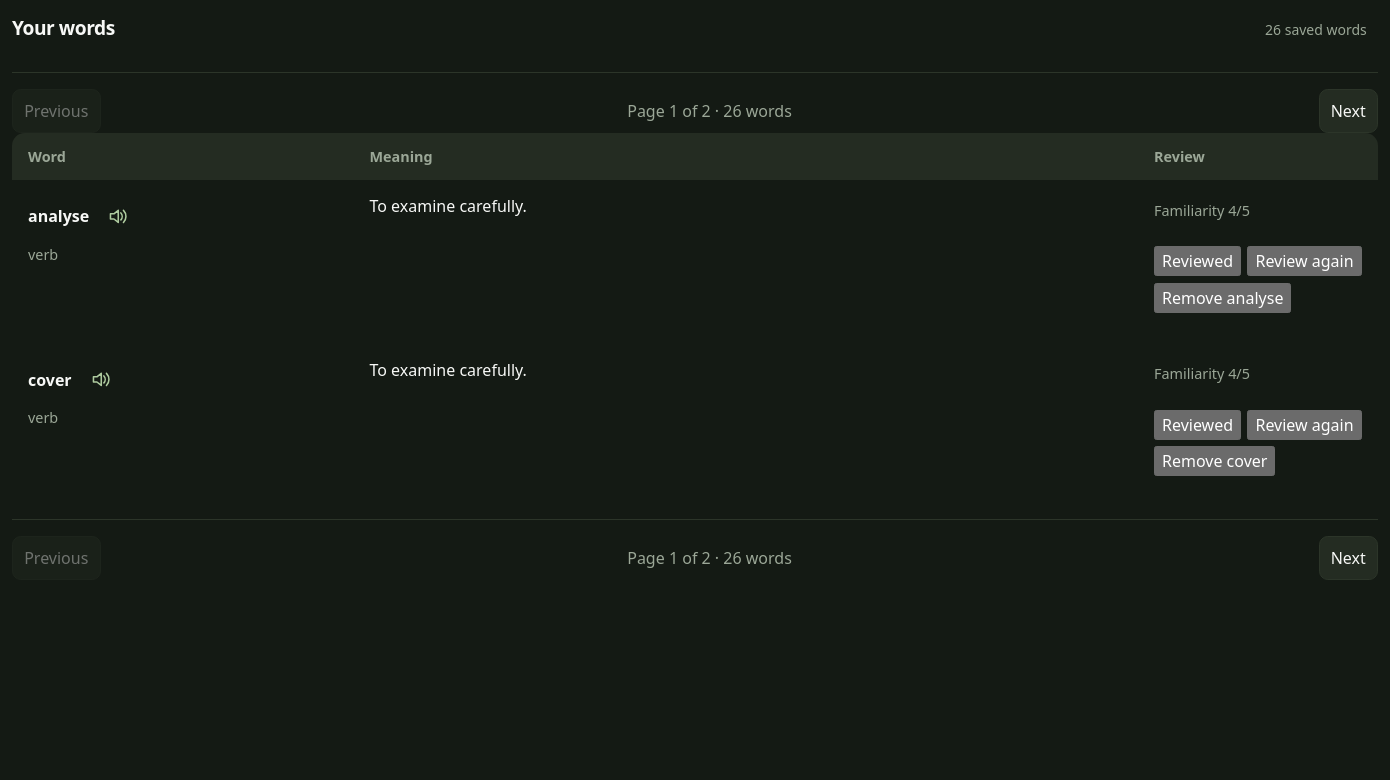
Test: removes only the selected row, restoring it on failure (success=true)
The image size is (1390, 780).
Click the button "Remove analyse": [1223, 298] box [1154, 283, 1291, 313]
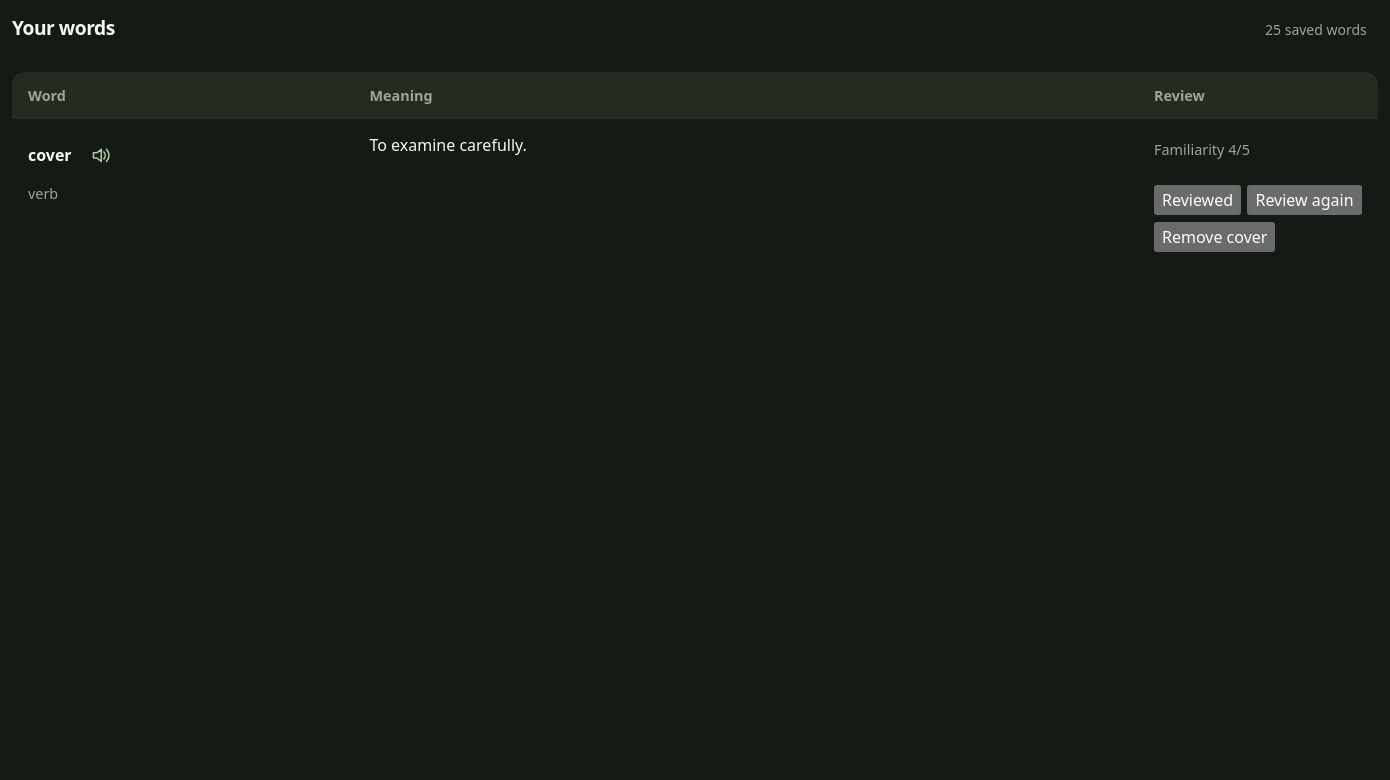
Expected: the button "Remove cover" is enabled, [1154, 222, 1275, 252]
Expected: the button "Remove analyse" is gone
